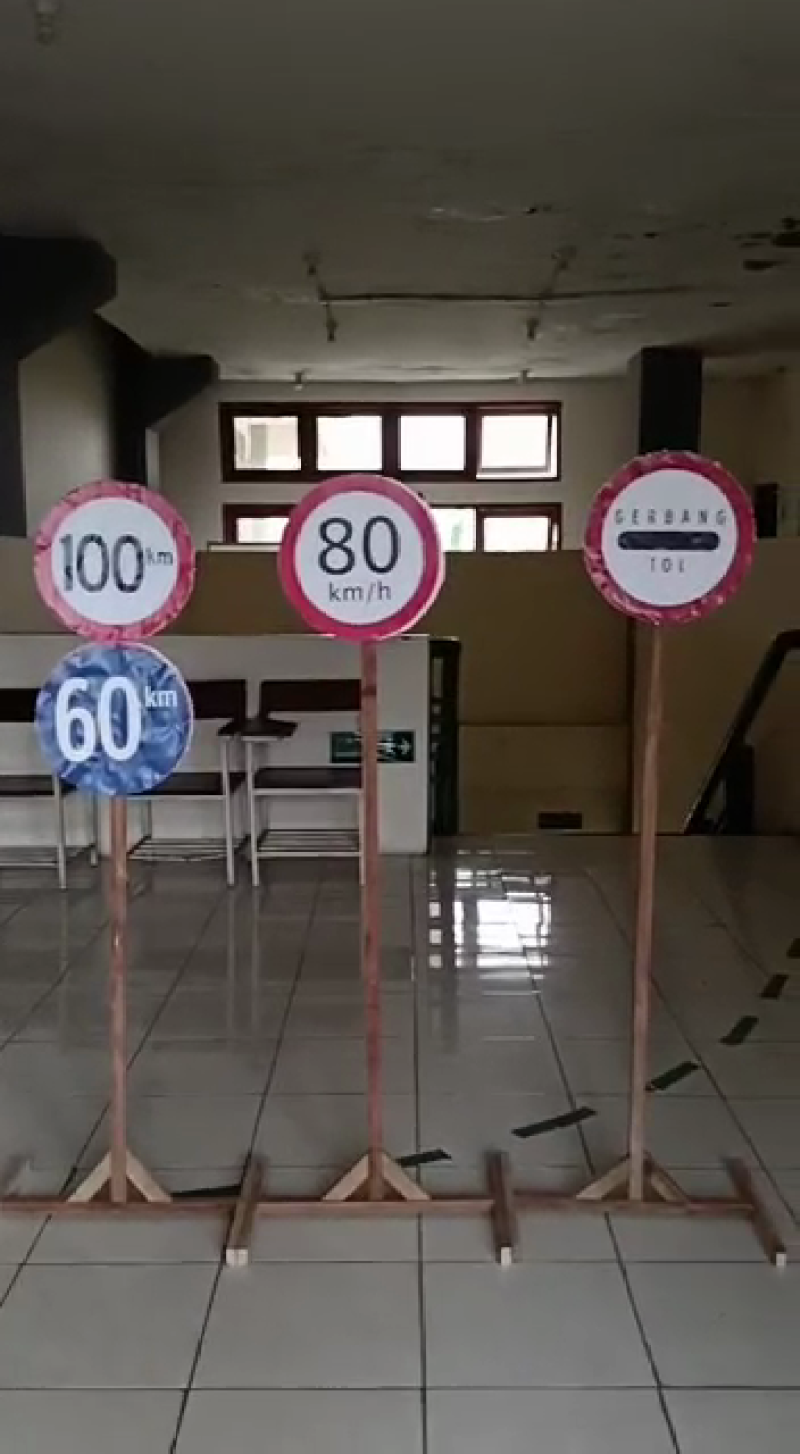batas maksimal 100kmperjam minimal 60kmperjam: (33, 455, 194, 811)
batas maksimal 80kmperjam: (266, 470, 446, 637)
gerbang tol: (561, 451, 766, 627)
